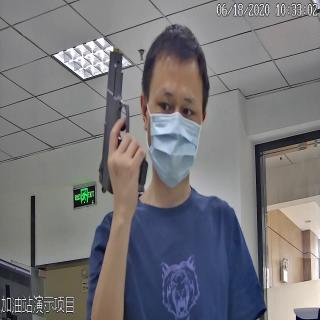gun: (98, 44, 148, 199)
